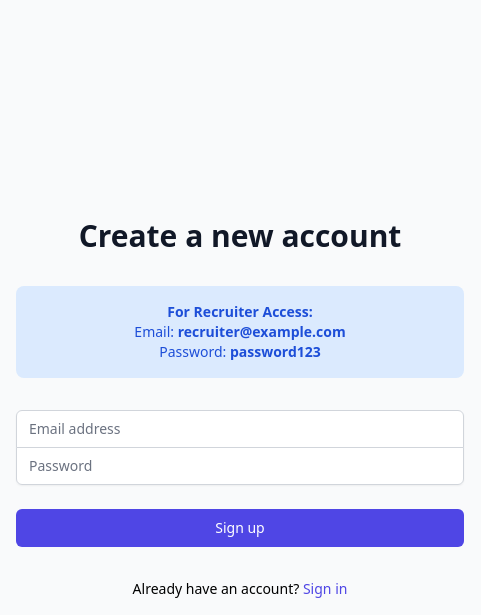
Test: SignUp › shows an error message for short password
Step 1. Type "test@example.com" into the field with placeholder "Email address" → [240, 428], box x1=16 y1=410 x2=464 y2=448
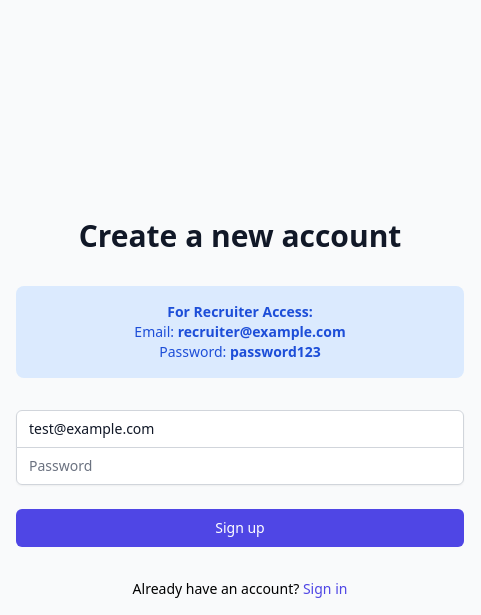
Step 2. Type "123" into the password field with placeholder "Password" → [240, 466], box x1=16 y1=446 x2=464 y2=484
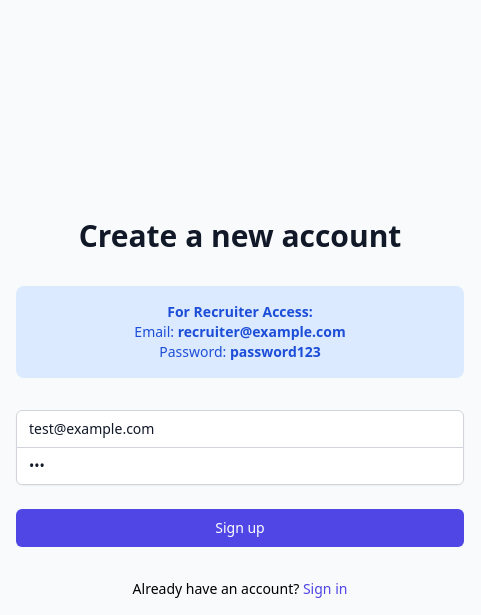
Step 3. Click the button "Sign up" → [240, 528], box x1=16 y1=508 x2=464 y2=546
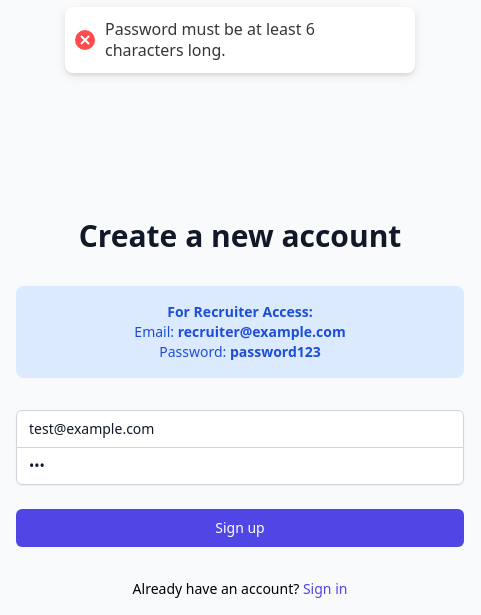
Check: the text "Password must be at least 6 characters long." is shown, box x1=105 y1=18 x2=315 y2=61
